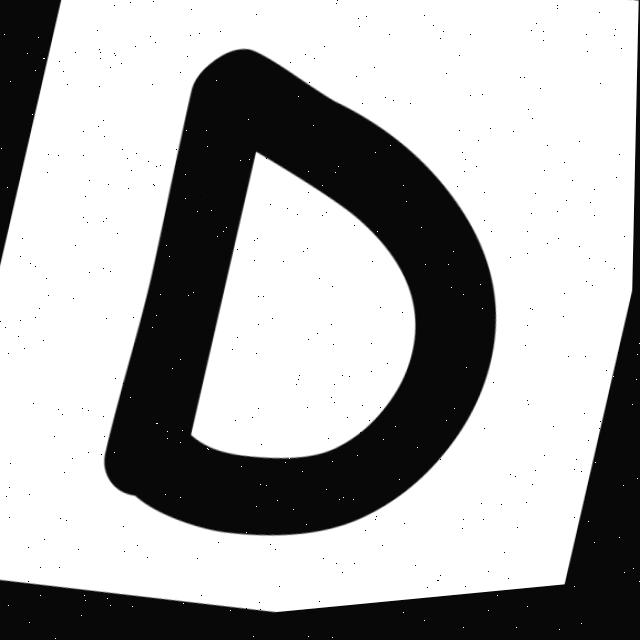D: (106, 54, 497, 541)
